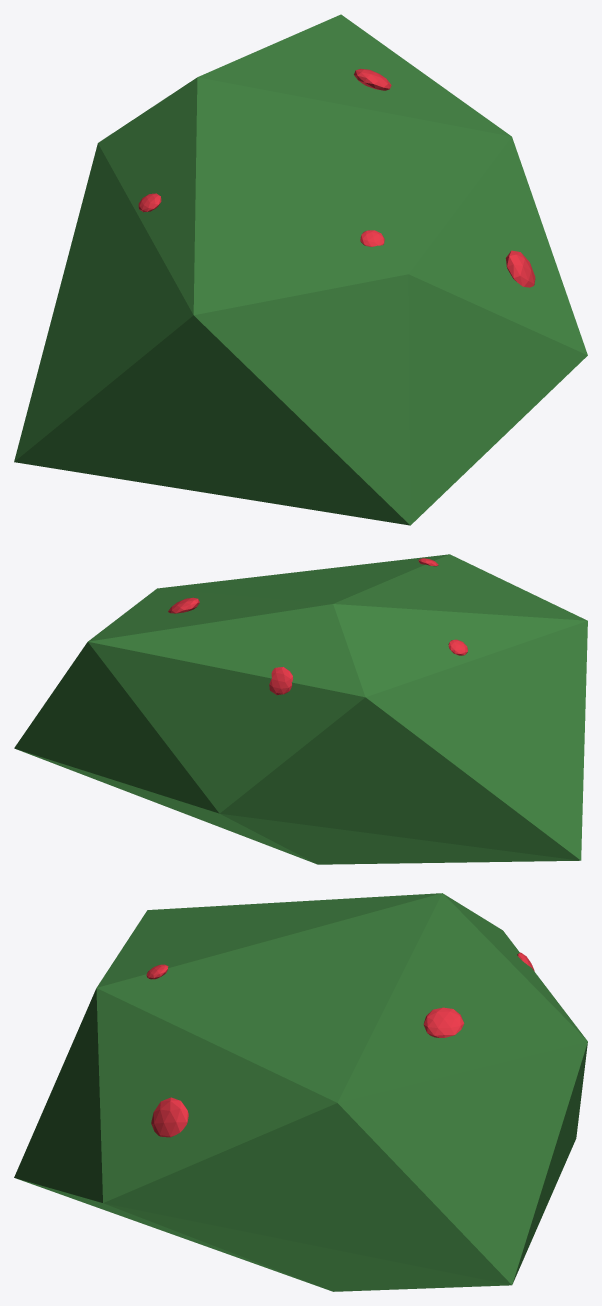
The model's file is bushTwo.fbx.
The picture shows the model from 3 angles, top to bottom: view 1: azimuth 30°, elevation 25°; view 2: azimuth 150°, elevation 25°; view 3: azimuth 270°, elevation 25°; orthographic projection. The views are drawn at different scales.
Visible parts, largest first — view 1: Icosphere; view 2: Icosphere; view 3: Icosphere.
Boxes of the visible parts, left/top/right/bottom form: Icosphere: left=14, top=14, right=587, bottom=525; Icosphere: left=14, top=554, right=587, bottom=864; Icosphere: left=14, top=893, right=587, bottom=1291.
Size of the model in its own units: 224 by 135 by 194.
